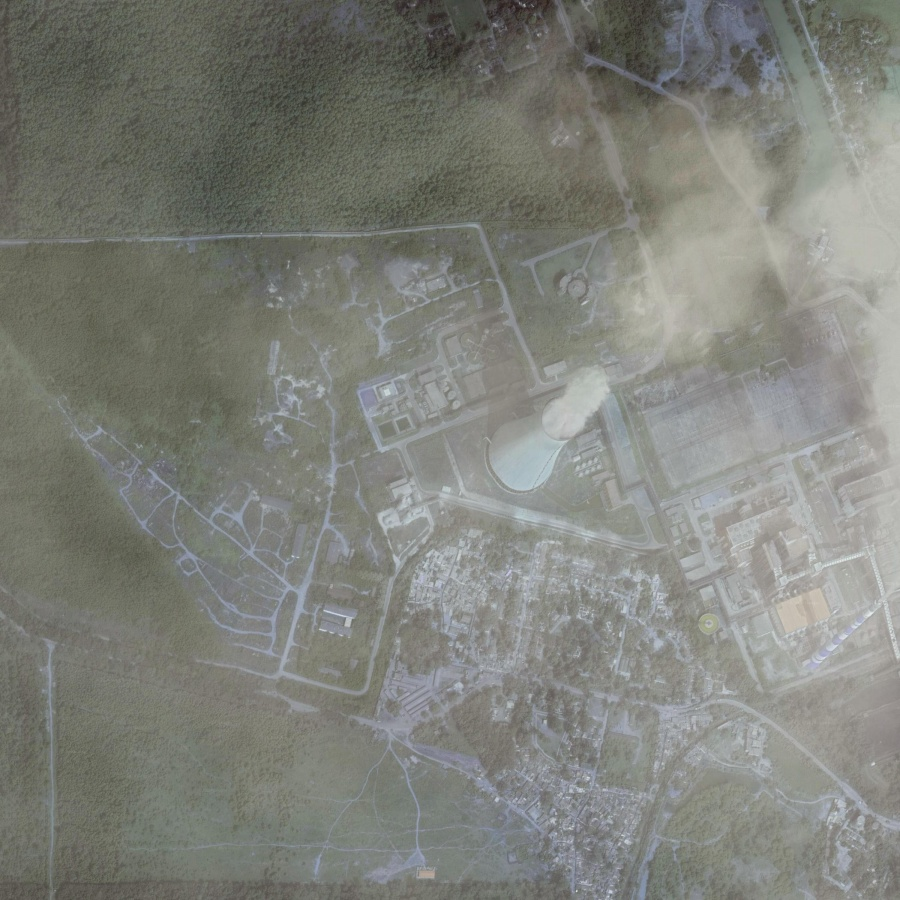PowerPlant: (478, 326, 633, 537)
